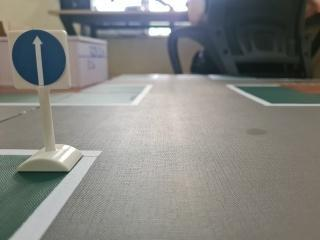straight: (6, 30, 77, 93)
